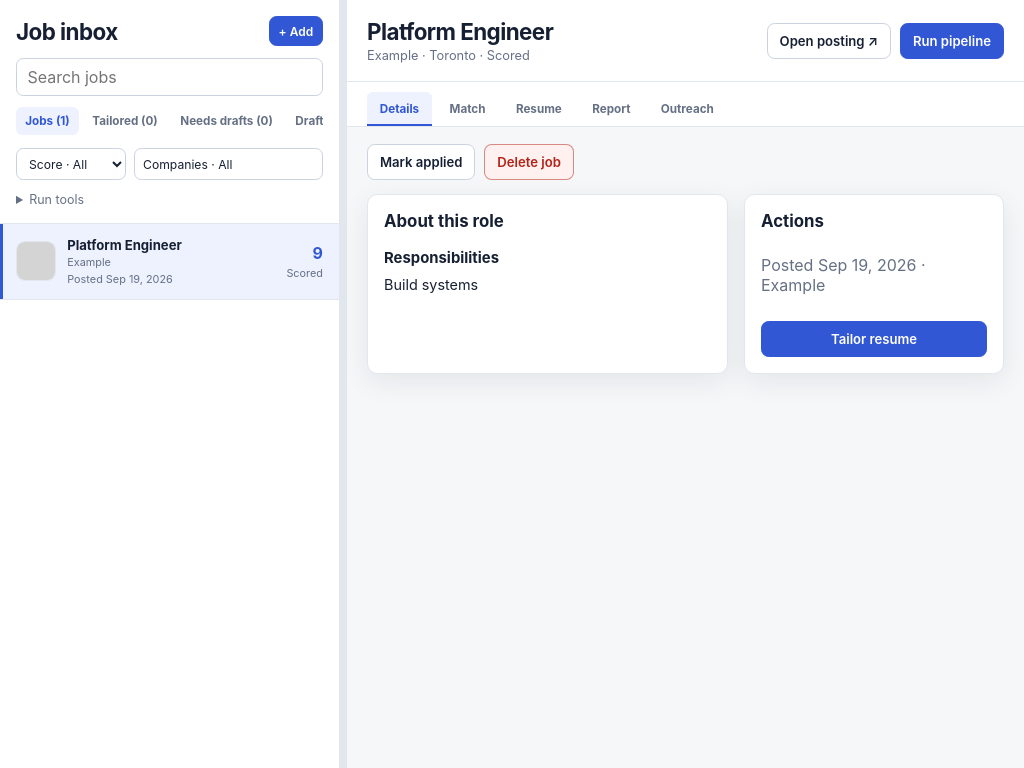
Test: JobsPage › searches the current bucket and reports empty results
The image size is (1024, 768).
Type "missing role" into the search field labelled "Search jobs".
click(170, 77); type("missing role")  # box [16,58,323,96]
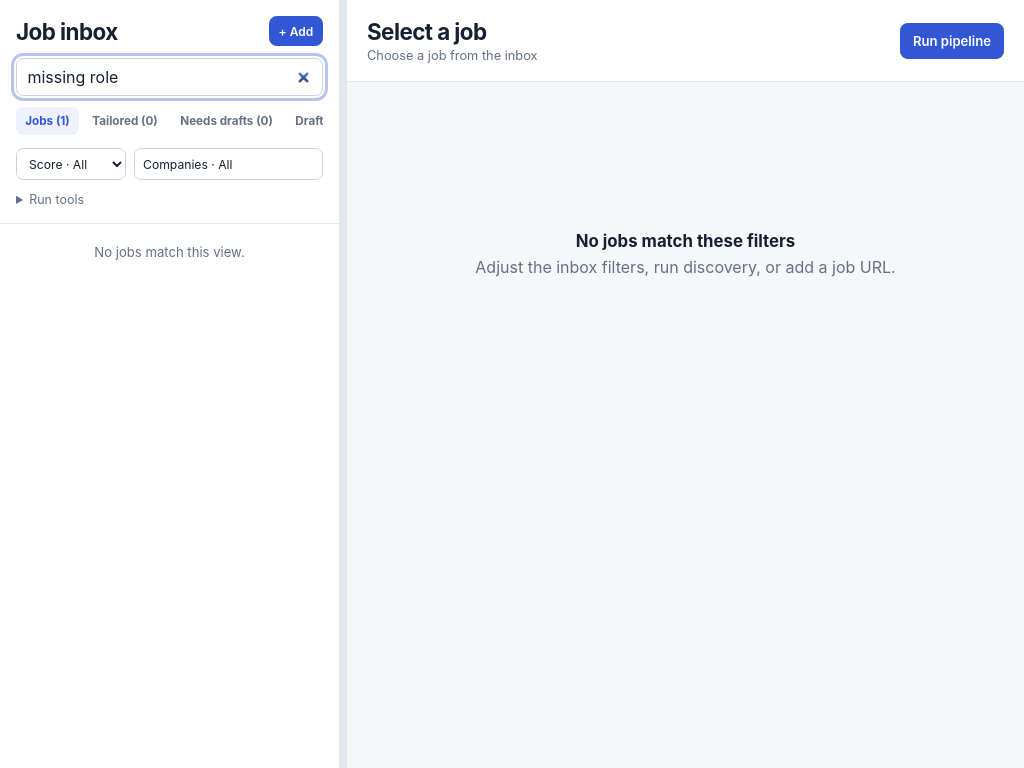
Now the text "No jobs match this view." is shown, box [94,244,245,260]
